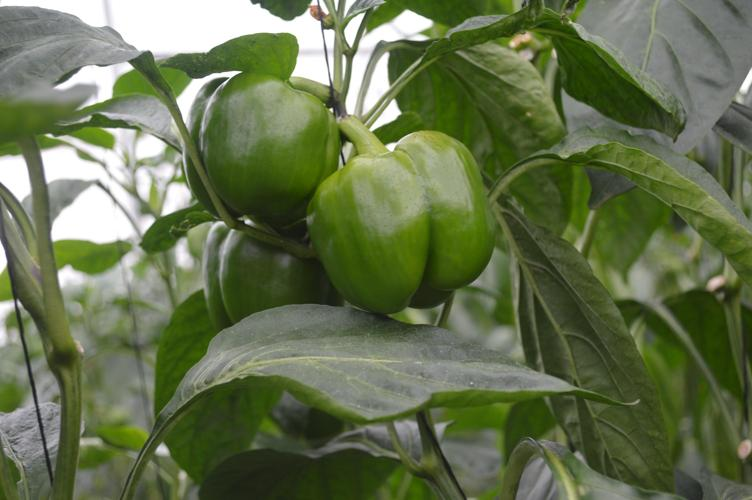BellPepper: (310, 129, 488, 308), (180, 77, 333, 219), (198, 225, 331, 319)
